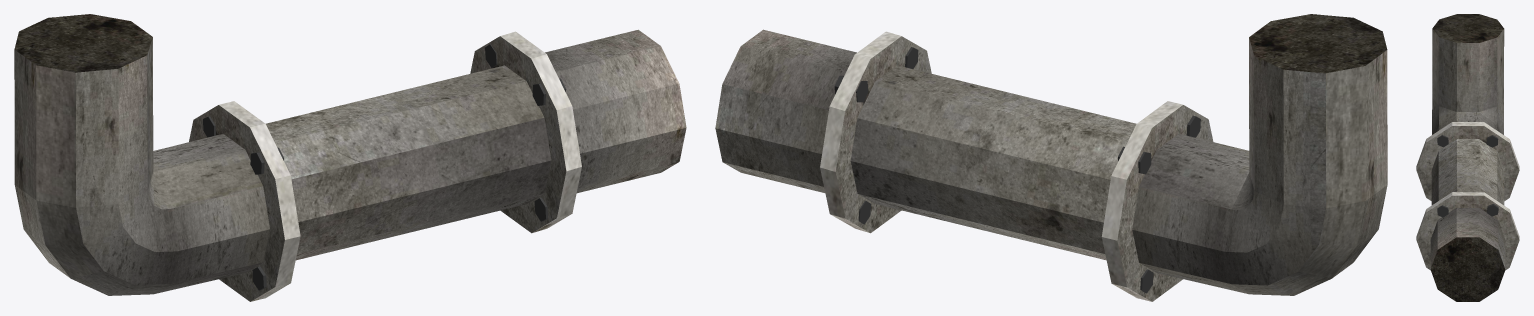
Rendered from Long Pipe Model.fbx.
3 views of the same model, side by side, from view 1: azimuth 30°, elevation 25°; view 2: azimuth 150°, elevation 25°; view 3: azimuth 270°, elevation 25° (orthographic). The views are drawn at different scales.
Visible parts, largest first — view 1: Long_Pipe; view 2: Long_Pipe; view 3: Long_Pipe.
Boxes of the visible parts, bbox=[...] form: Long_Pipe: bbox=[14, 14, 686, 301]; Long_Pipe: bbox=[715, 14, 1387, 301]; Long_Pipe: bbox=[1416, 14, 1519, 301].
Size of the model in its own units: 10.14 by 4.41 by 2.84.
Materials: 1 (1 with a texture image).
